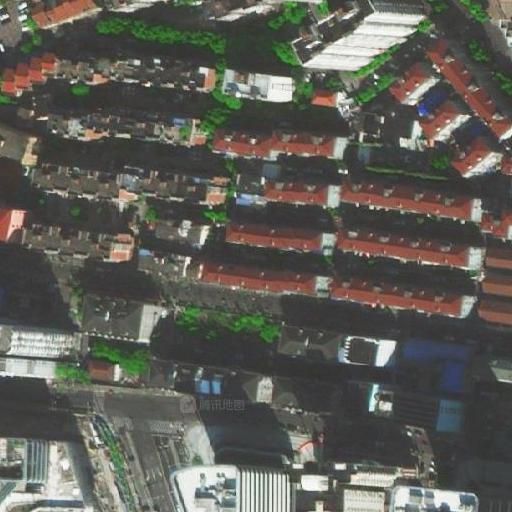building: (302, 0, 421, 71), (38, 162, 226, 206), (52, 49, 220, 95), (431, 33, 512, 127), (345, 174, 486, 226), (343, 221, 480, 269), (159, 302, 279, 356), (334, 270, 472, 315), (47, 111, 208, 148), (310, 459, 422, 512), (191, 256, 325, 297), (197, 458, 294, 512), (183, 357, 285, 408), (285, 325, 393, 369), (19, 218, 127, 260), (80, 287, 159, 338), (224, 126, 346, 157), (383, 388, 464, 433), (0, 322, 73, 371), (228, 220, 329, 252), (263, 175, 345, 210), (356, 141, 439, 175), (272, 375, 348, 411), (419, 102, 473, 150), (396, 334, 468, 368), (452, 132, 505, 176), (467, 392, 512, 443), (394, 59, 443, 105), (361, 102, 415, 142), (232, 69, 295, 103), (137, 244, 196, 278), (2, 56, 54, 94), (156, 218, 209, 246), (235, 177, 268, 213), (7, 130, 41, 164), (3, 97, 38, 128), (27, 84, 57, 120), (132, 205, 162, 241), (476, 266, 512, 292), (478, 241, 512, 268), (85, 356, 121, 379), (1, 209, 23, 242), (310, 84, 339, 107)
